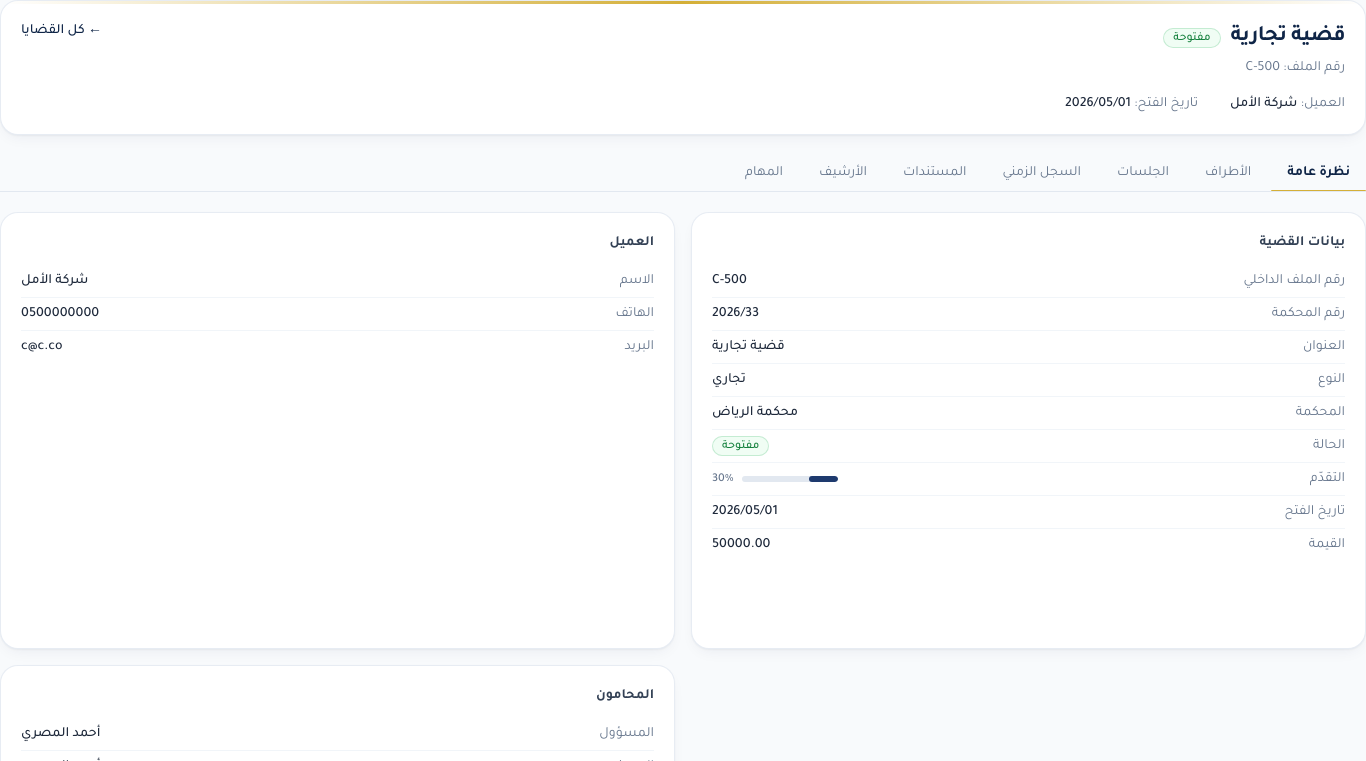
Test: CaseFilePage › يعرض حالة فارغة لتبويب بلا بيانات
Check: the heading "قضية تجارية" is shown, box [1231,21,1345,54]
Click the tab "الأطراف": [1228, 173] box [1189,155,1267,191]
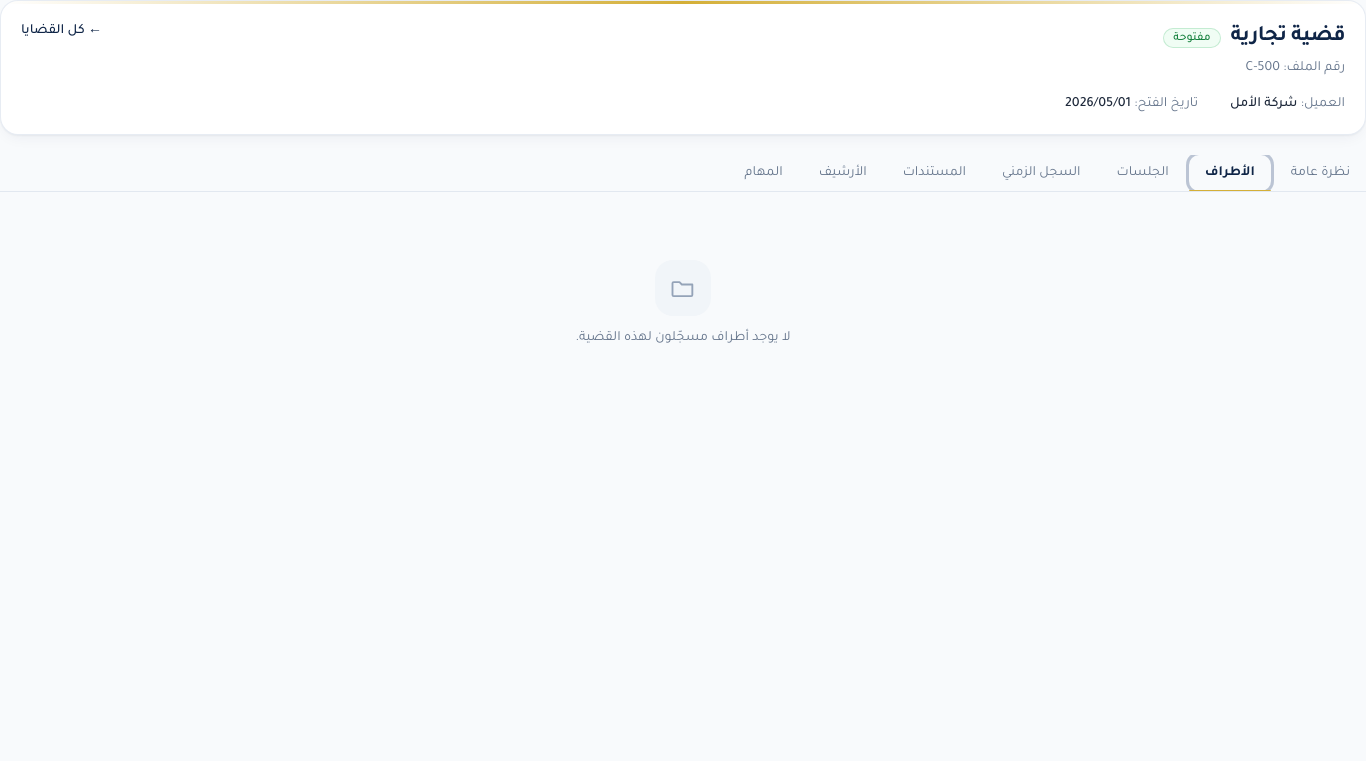
Check: the text "لا يوجد أطراف مسجّلون لهذه القضية." is shown, box [575,328,791,348]
